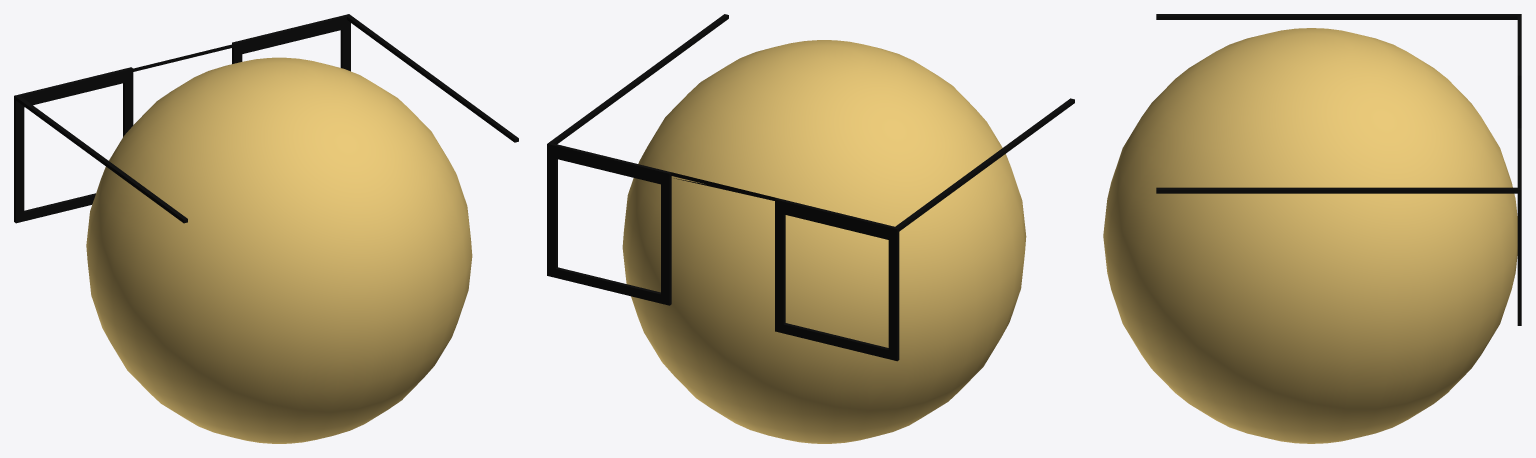
File: Dweeb.glb
The picture shows the model from 3 angles, left to right: view 1: azimuth 30°, elevation 25°; view 2: azimuth 150°, elevation 25°; view 3: azimuth 270°, elevation 25°; orthographic projection. The views are drawn at different scales.
Visible parts, largest first — view 1: Sphere, Cube; view 2: Sphere, Cube; view 3: Sphere, Cube.
Boxes of the visible parts, x1=… form: Sphere: x1=86, y1=57, x2=472, y2=443; Cube: x1=14, y1=14, x2=518, y2=223; Sphere: x1=622, y1=40, x2=1026, y2=443; Cube: x1=547, y1=14, x2=1074, y2=361; Sphere: x1=1103, y1=28, x2=1517, y2=443; Cube: x1=1156, y1=14, x2=1521, y2=325.
Bounding box in the file's own units: 1.2 × 1.2 × 1.21.
